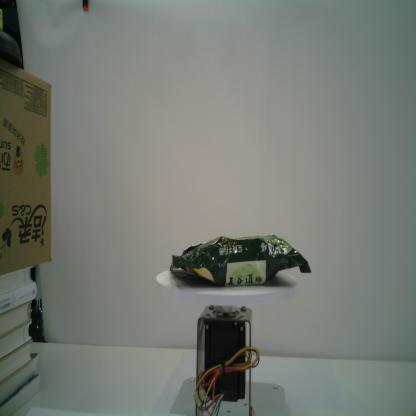Instant Noodles: (168, 232, 313, 288)
